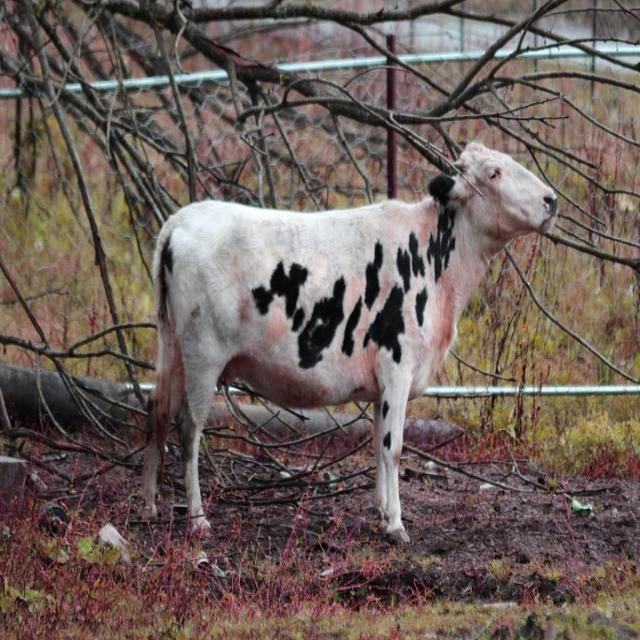cow: (145, 142, 556, 541)
